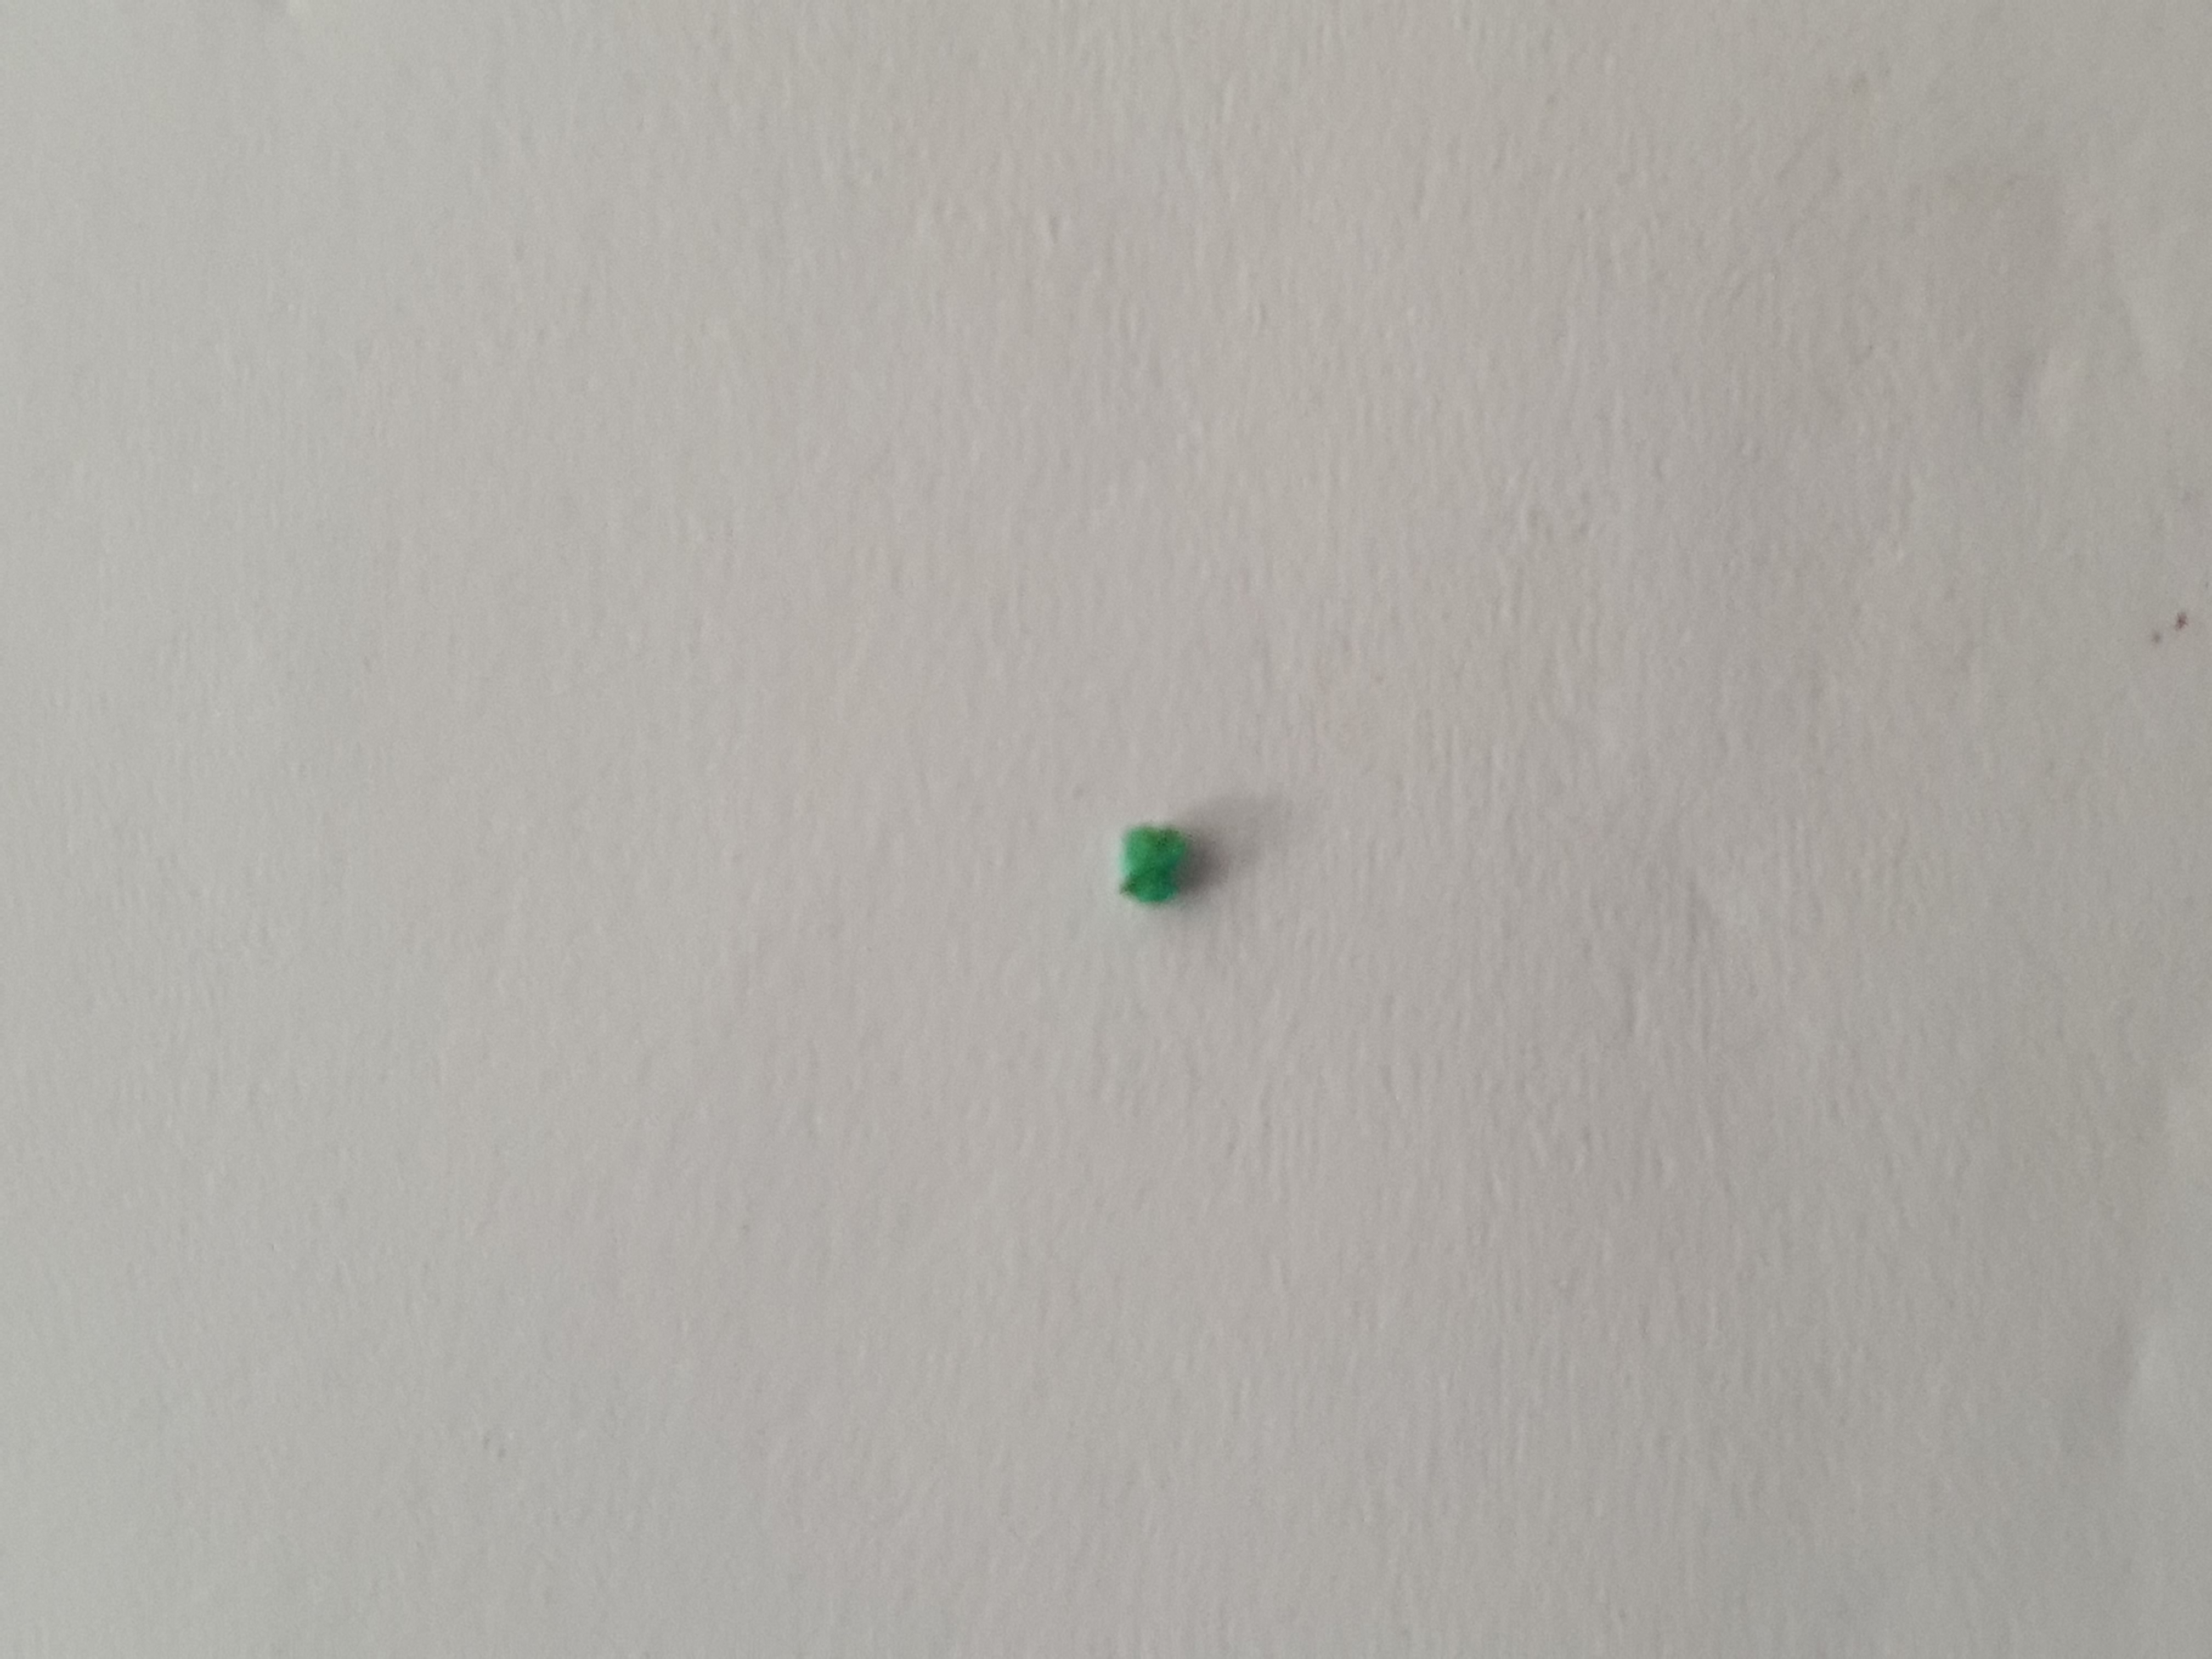plastic: (1087, 798, 1217, 917)
